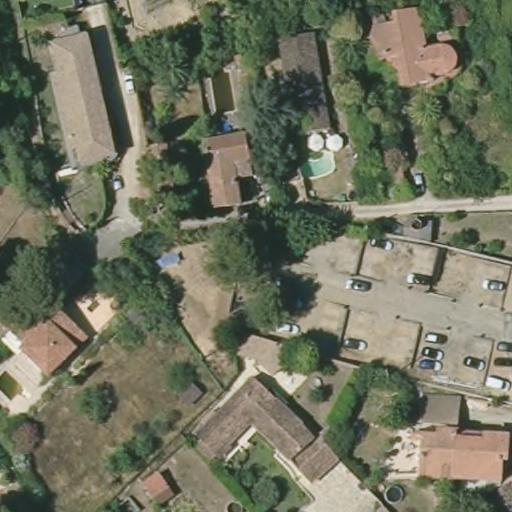pool: (292, 146, 338, 183)
